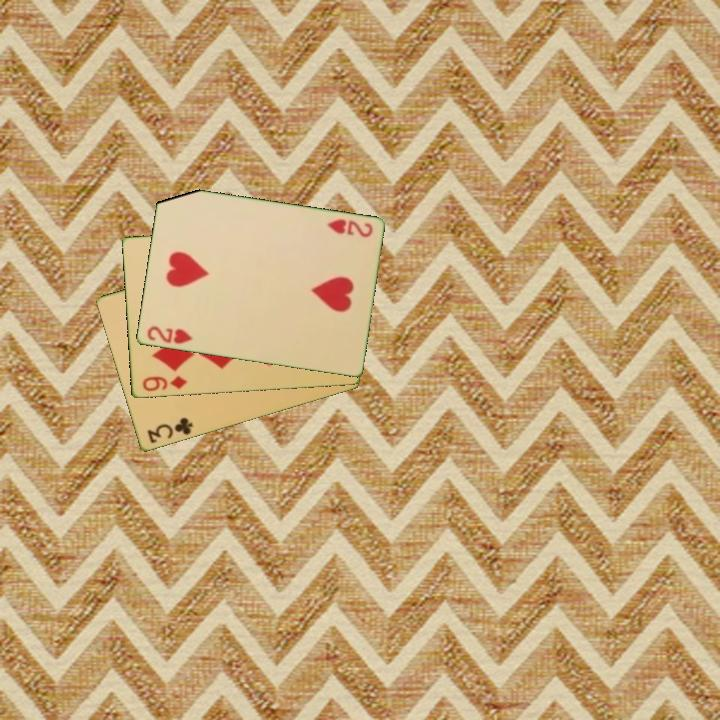2h: (143, 323, 196, 347), (323, 216, 375, 240)
3c: (143, 414, 195, 447)
9d: (139, 373, 190, 394)
